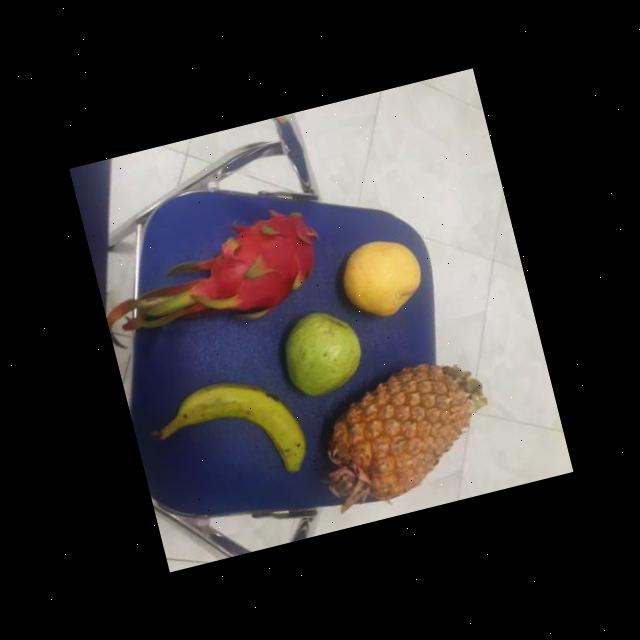banana: (163, 362, 308, 494)
guava: (274, 300, 367, 402)
pear: (332, 228, 428, 326)
pineapple: (305, 354, 491, 506)
pitaya: (182, 200, 330, 330)
